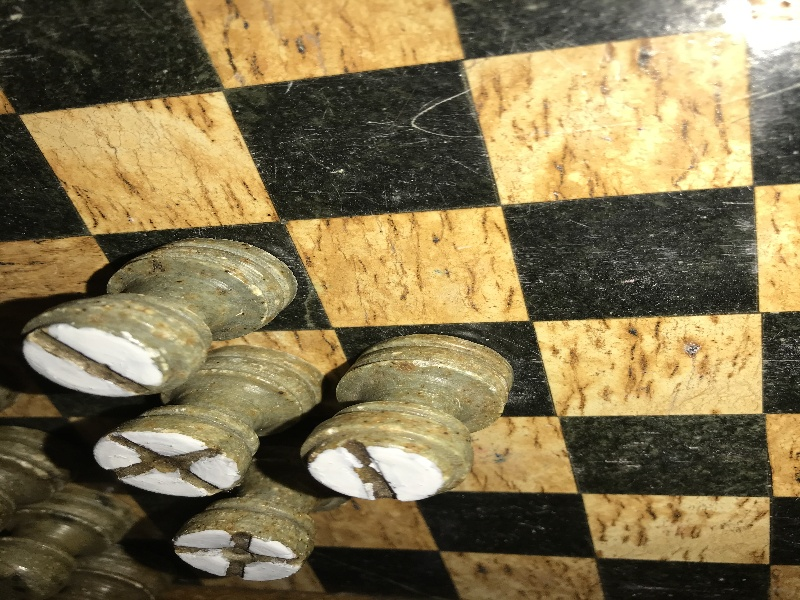WhiteBishop: (93, 366, 314, 498), (174, 421, 354, 582)
WhiteRook: (21, 238, 296, 396), (300, 333, 514, 501)
